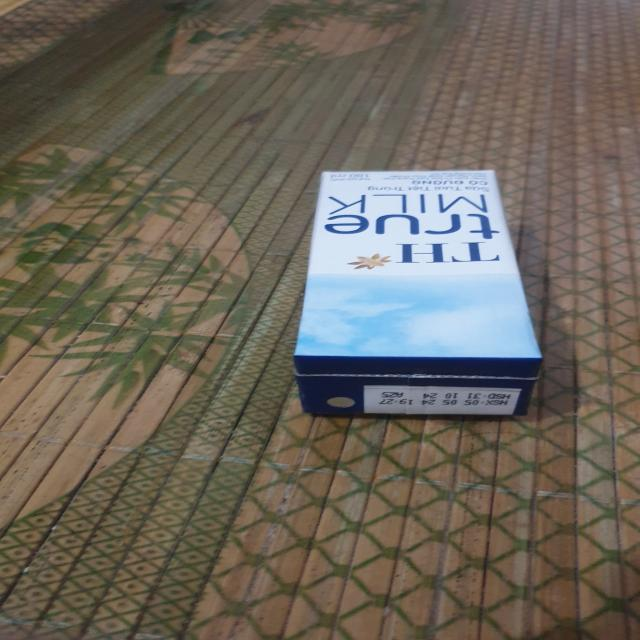TH: (294, 168, 543, 422)
